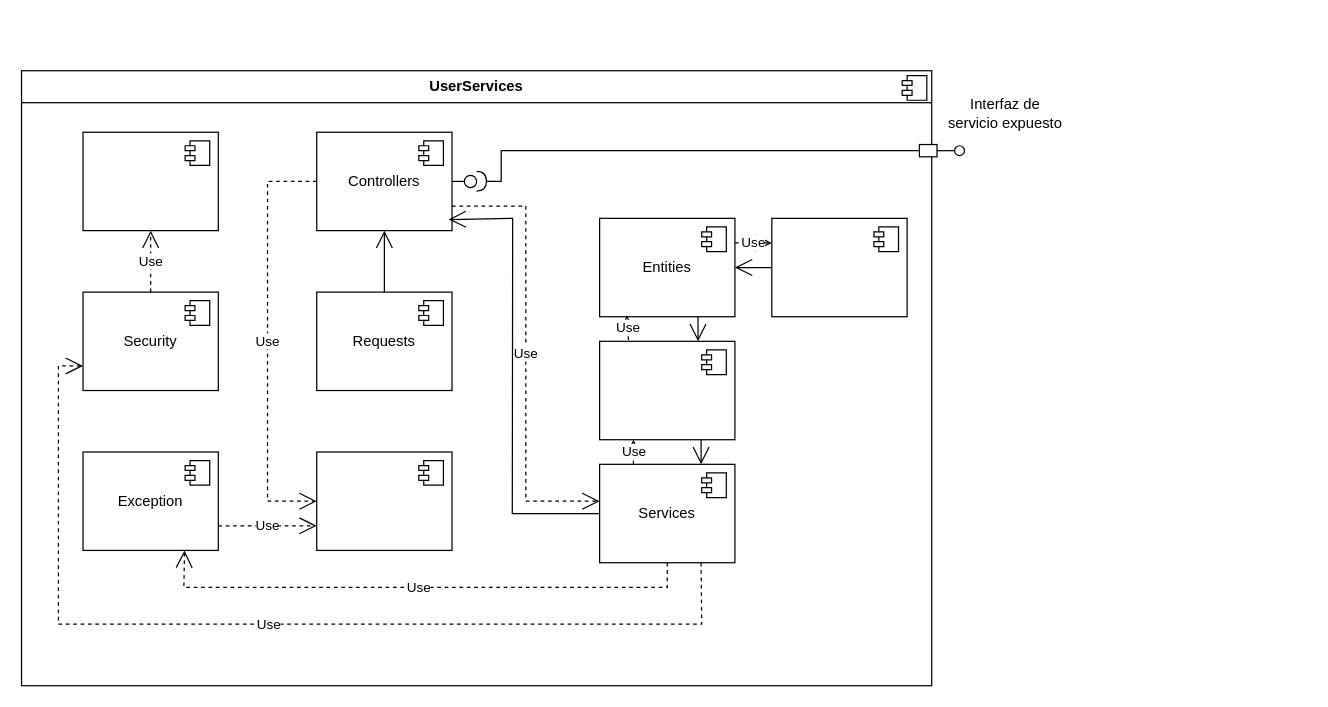
The diagram is 1328 pixels wide and 707 high, and some of its shapes have lost their labels. Here are the shapes that lost their labels. From the top down, the centre of each, then its label:
At point 150,181: "Config".
At point 839,267: "H2DB".
At point 666,390: "Respositories".
At point 383,500: "Responses".
